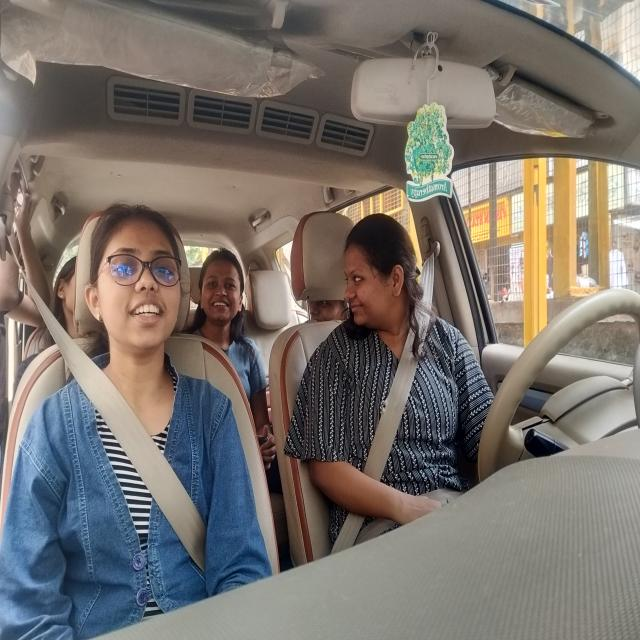LeftRight: (341, 215, 429, 328)
person: (90, 202, 191, 354), (201, 240, 245, 326), (54, 253, 77, 330)
